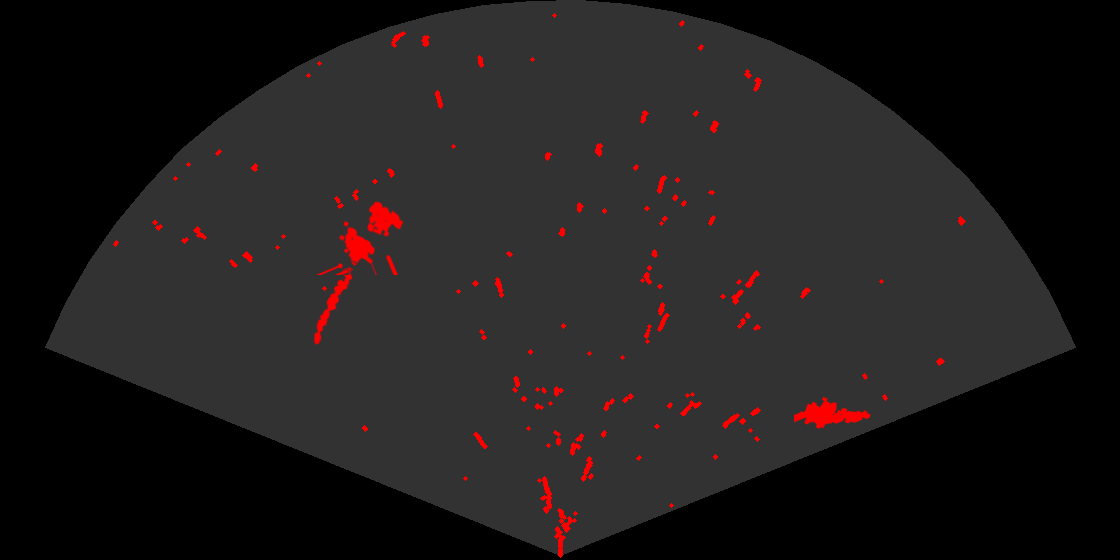cage: (317, 200, 405, 275)
chain: (312, 243, 368, 346)
frogman: (794, 395, 872, 430)
